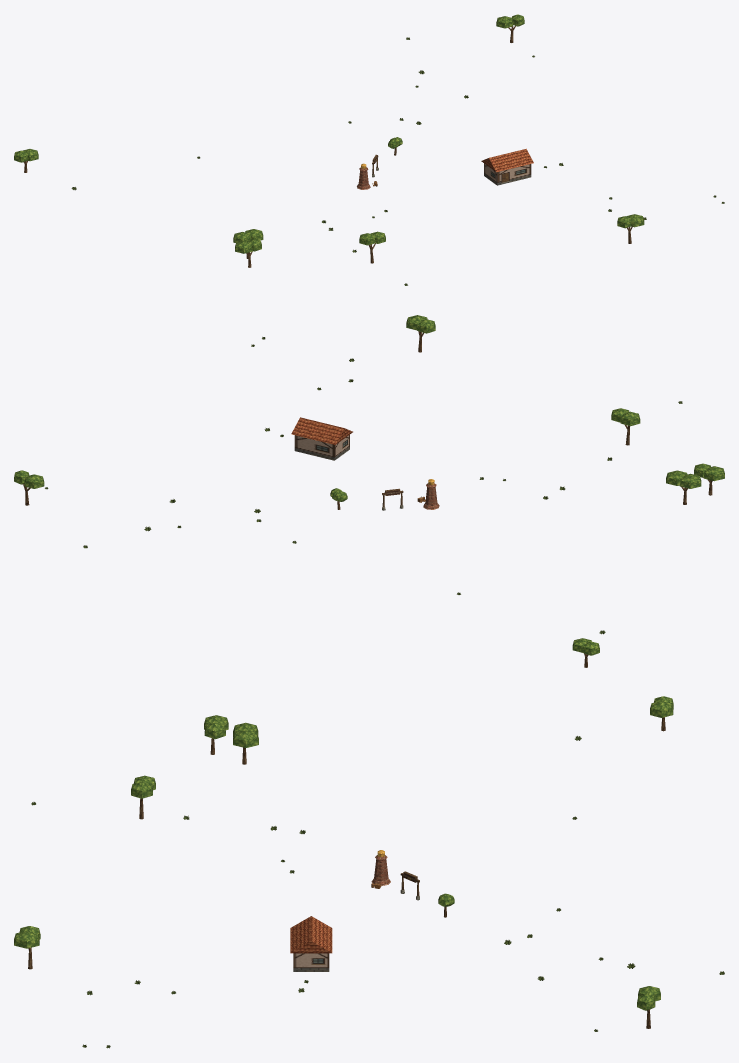
The model's file is FieldCell_0_2.fbx.
The picture shows the model from 3 angles, top to bottom: view 1: azimuth 30°, elevation 25°; view 2: azimuth 150°, elevation 25°; view 3: azimuth 270°, elevation 25°; orthographic projection. The views are drawn at different scales.
Visible parts, largest first — view 1: FieldCell_0_2; view 2: FieldCell_0_2; view 3: FieldCell_0_2.
Part boxes in pixels (x1,y1,x2,y2): FieldCell_0_2: [14, 14, 644, 267]; FieldCell_0_2: [14, 315, 724, 667]; FieldCell_0_2: [14, 696, 673, 1028].
Bounding box in the file's own units: 13649 × 1124 × 12192.
